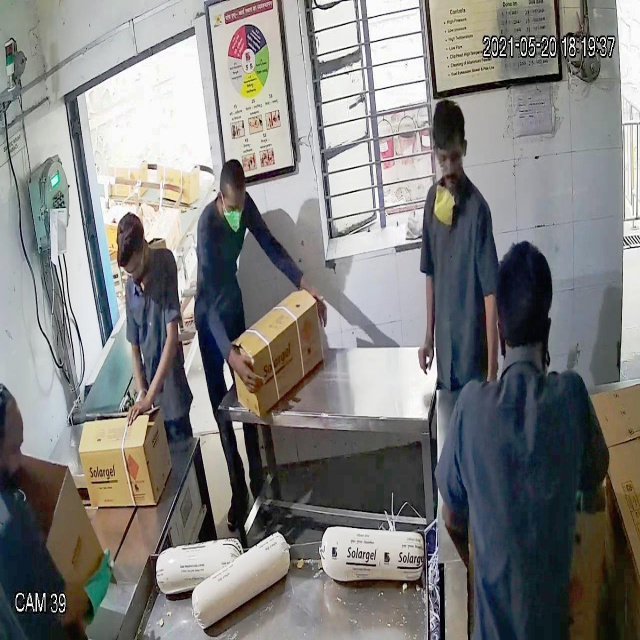Gafas: (431, 144, 466, 171)
